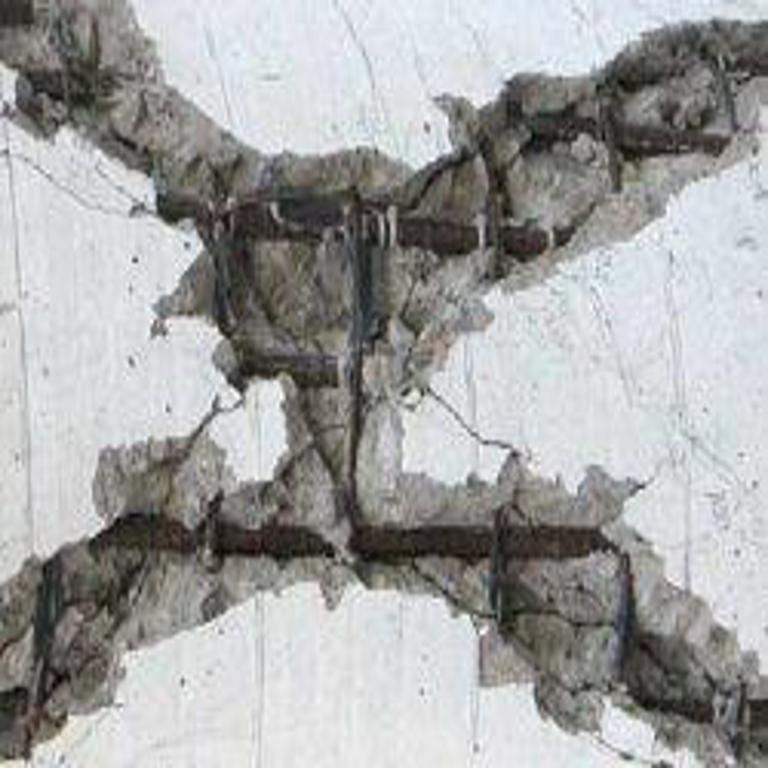crack: (13, 153, 154, 218), (426, 386, 517, 452), (189, 387, 246, 440)
damage: (0, 0, 768, 768)
